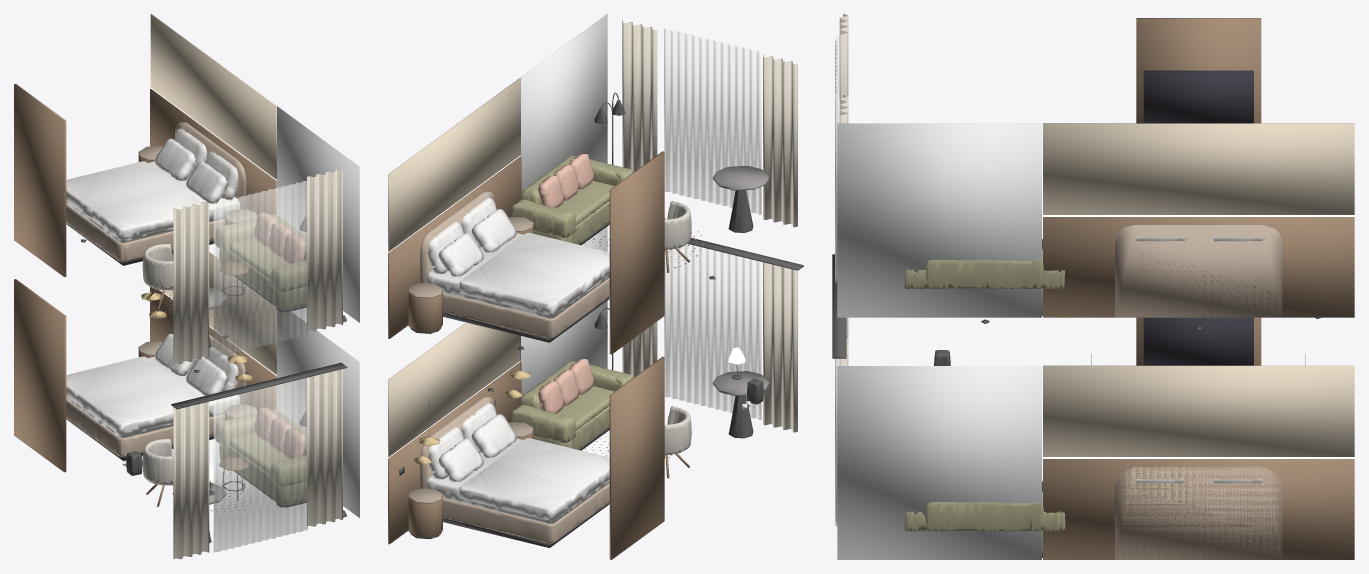
File: 216_sencilla.glb
3 renders of one model, left to right at view 1: azimuth 30°, elevation 25°; view 2: azimuth 150°, elevation 25°; view 3: azimuth 270°, elevation 25°, orthographic. The views are drawn at different scales.
Visible parts, largest first — view 1: 216_sencilla_HLF-MOB CORTINA VELO, 216_sencilla_HLF-MOB MELAMINA SIKUANI, 216_sencilla_HLF-MOB CORTINA LINO, 216_sencilla_HLF-MOB LENCERIA BLANCA, 216_sencilla_HLF-REF 07 PAPEL COLGADURA LISMORE 1097.28 VESC, 216_sencilla_HLF-REF 11 ESPEJO FLOTADO 5mm, 216_sencilla_HLF-MOB TEJIDO OLIVA, 216_sencilla_HLF-MOB TAPIZ TRAILBLAZER 32 MARBLE, 216_sencilla_HLF-MOB ACERO PINTURA ELECTROSTATICA NEGRO, 216_sencilla_HLF-MOB TEJIDO TERRACOTA, 216_sencilla_HLF-MOB TEJIDO AVENA, 216_sencilla_HLF-MOB MARMOL (+2 smaller); view 2: 216_sencilla_HLF-MOB MELAMINA SIKUANI, 216_sencilla_HLF-MOB CORTINA VELO, 216_sencilla_HLF-MOB LENCERIA BLANCA, 216_sencilla_HLF-REF 07 PAPEL COLGADURA LISMORE 1097.28 VESC, 216_sencilla_HLF-MOB CORTINA LINO, 216_sencilla_HLF-REF 11 ESPEJO FLOTADO 5mm, 216_sencilla_HLF-MOB TEJIDO OLIVA, 216_sencilla_HLF-MOB TAPIZ TRAILBLAZER 32 MARBLE, 216_sencilla_HLF-MOB ACERO PINTURA ELECTROSTATICA NEGRO, 216_sencilla_HLF-MOB TEJIDO TERRACOTA, 216_sencilla_HLF-MOB TEJIDO AVENA, 216_sencilla_HLF-MOB PIEDRA SINTERIZADA ALTEA PHANTOM DARK (+2 smaller); view 3: 216_sencilla_HLF-REF 11 ESPEJO FLOTADO 5mm, 216_sencilla_HLF-REF 07 PAPEL COLGADURA LISMORE 1097.28 VESC, 216_sencilla_HLF-MOB MELAMINA SIKUANI, 216_sencilla_HLF-MOB TAPIZ TRAILBLAZER 32 MARBLE, 216_sencilla_HLF-MOB PANTALLA TV, 216_sencilla_HLF-MOB TEJIDO OLIVA, 216_sencilla_HLF-MOB CORTINA VELO, 216_sencilla_HLF-MOB ACERO PINTURA ELECTROSTATICA NEGRO, 216_sencilla_HLF-MOB CORTINA LINO, 216_sencilla_HLF-MOB LED, 216_sencilla_HLF-MOB LENCERIA BLANCA.
Boxes of the visible parts, x1,y1,x2,y2 form: 216_sencilla_HLF-MOB CORTINA VELO: (213,181,307,552); 216_sencilla_HLF-MOB MELAMINA SIKUANI: (14,84,276,506); 216_sencilla_HLF-MOB CORTINA LINO: (173,169,342,559); 216_sencilla_HLF-MOB LENCERIA BLANCA: (66,128,240,466); 216_sencilla_HLF-REF 07 PAPEL COLGADURA LISMORE 1097.28 VESC: (150,14,276,374); 216_sencilla_HLF-REF 11 ESPEJO FLOTADO 5mm: (277,106,359,517); 216_sencilla_HLF-MOB TEJIDO OLIVA: (215,214,306,504); 216_sencilla_HLF-MOB TAPIZ TRAILBLAZER 32 MARBLE: (66,122,246,456); 216_sencilla_HLF-MOB ACERO PINTURA ELECTROSTATICA NEGRO: (66,216,347,543); 216_sencilla_HLF-MOB TEJIDO TERRACOTA: (253,212,306,458); 216_sencilla_HLF-MOB TEJIDO AVENA: (142,244,173,485); 216_sencilla_HLF-MOB MARMOL: (138,146,257,418); 216_sencilla_HLF-MOB MELAMINA SIKUANI: (388,151,689,559); 216_sencilla_HLF-MOB CORTINA VELO: (664,28,761,419); 216_sencilla_HLF-MOB LENCERIA BLANCA: (426,197,750,524); 216_sencilla_HLF-REF 07 PAPEL COLGADURA LISMORE 1097.28 VESC: (388,78,520,456); 216_sencilla_HLF-MOB CORTINA LINO: (622,20,797,432); 216_sencilla_HLF-REF 11 ESPEJO FLOTADO 5mm: (520,14,607,396); 216_sencilla_HLF-MOB TEJIDO OLIVA: (511,155,633,449); 216_sencilla_HLF-MOB TAPIZ TRAILBLAZER 32 MARBLE: (420,191,609,543); 216_sencilla_HLF-MOB ACERO PINTURA ELECTROSTATICA NEGRO: (399,92,803,547); 216_sencilla_HLF-MOB TEJIDO TERRACOTA: (538,154,594,413); 216_sencilla_HLF-MOB TEJIDO AVENA: (664,201,691,454); 216_sencilla_HLF-MOB PIEDRA SINTERIZADA ALTEA PHANTOM DARK: (712,166,769,395); 216_sencilla_HLF-REF 11 ESPEJO FLOTADO 5mm: (837,123,1041,559); 216_sencilla_HLF-REF 07 PAPEL COLGADURA LISMORE 1097.28 VESC: (1043,123,1354,456); 216_sencilla_HLF-MOB MELAMINA SIKUANI: (1043,18,1354,559); 216_sencilla_HLF-MOB TAPIZ TRAILBLAZER 32 MARBLE: (1115,225,1282,559); 216_sencilla_HLF-MOB PANTALLA TV: (1143,70,1253,365); 216_sencilla_HLF-MOB TEJIDO OLIVA: (904,239,1065,553); 216_sencilla_HLF-MOB CORTINA VELO: (835,37,838,525); 216_sencilla_HLF-MOB ACERO PINTURA ELECTROSTATICA NEGRO: (832,254,1320,557); 216_sencilla_HLF-MOB CORTINA LINO: (839,14,848,365); 216_sencilla_HLF-MOB LED: (1043,215,1354,458); 216_sencilla_HLF-MOB LENCERIA BLANCA: (1136,236,1265,483).
Size of the model in its own units: 3.06 by 5.41 by 5.86.
